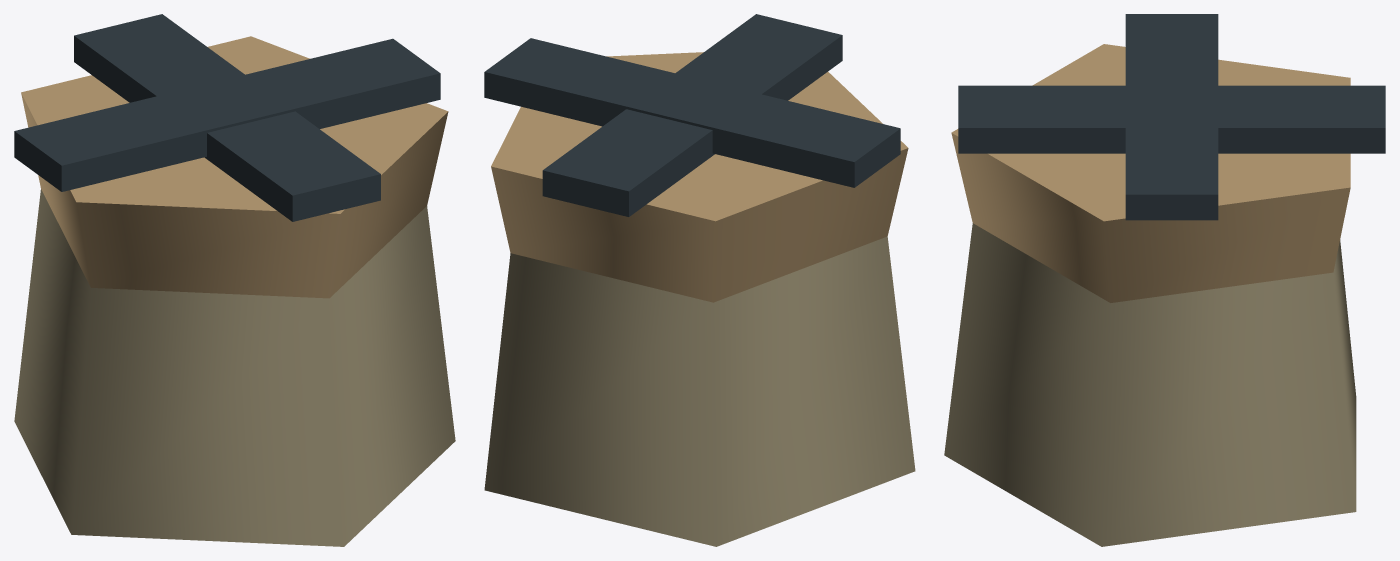
File: fixed-salve-lod2.glb
3 views of the same model, side by side, from view 1: azimuth 30°, elevation 25°; view 2: azimuth 150°, elevation 25°; view 3: azimuth 270°, elevation 25° (orthographic). The views are drawn at different scales.
Visible parts, largest first — view 1: piece_whole; view 2: piece_whole; view 3: piece_whole.
Boxes of the visible parts, box(x1,y1,x2,y2) form: piece_whole: box(14, 14, 455, 546); piece_whole: box(484, 14, 915, 546); piece_whole: box(944, 14, 1385, 546).
Bounding box in the file's own units: 0.3043 × 0.272 × 0.31.
